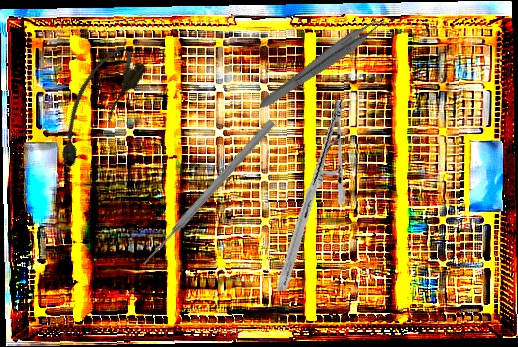Cannula: (40, 40, 150, 172)
Needle Holder: (241, 98, 380, 292)
Pusher: (139, 117, 277, 269)
Tissue Forceps: (256, 9, 391, 119)
